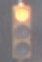Red: (8, 1, 34, 62)
